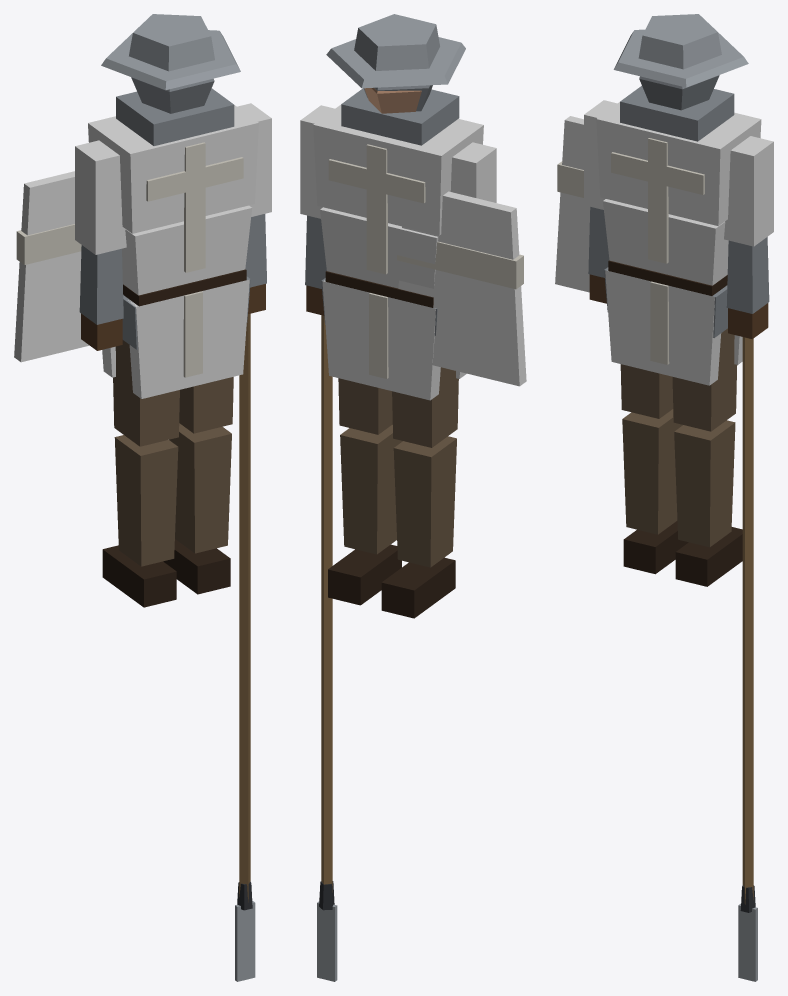
Rendered from soldier_med_spear_lod1.glb.
The picture shows the model from 3 angles, left to right: view 1: azimuth 30°, elevation 25°; view 2: azimuth 150°, elevation 25°; view 3: azimuth 330°, elevation 25°; orthographic projection. The views are drawn at different scales.
Parts seen in each view (by area): view 1: med_spear_lod1_static; view 2: med_spear_lod1_static; view 3: med_spear_lod1_static.
Boxes of the visible parts, x1=… form: med_spear_lod1_static: x1=14, y1=14, x2=271, y2=981; med_spear_lod1_static: x1=300, y1=14, x2=526, y2=981; med_spear_lod1_static: x1=555, y1=14, x2=773, y2=981.
Bounding box in the file's own units: 0.765 × 3.09 × 0.3889.
